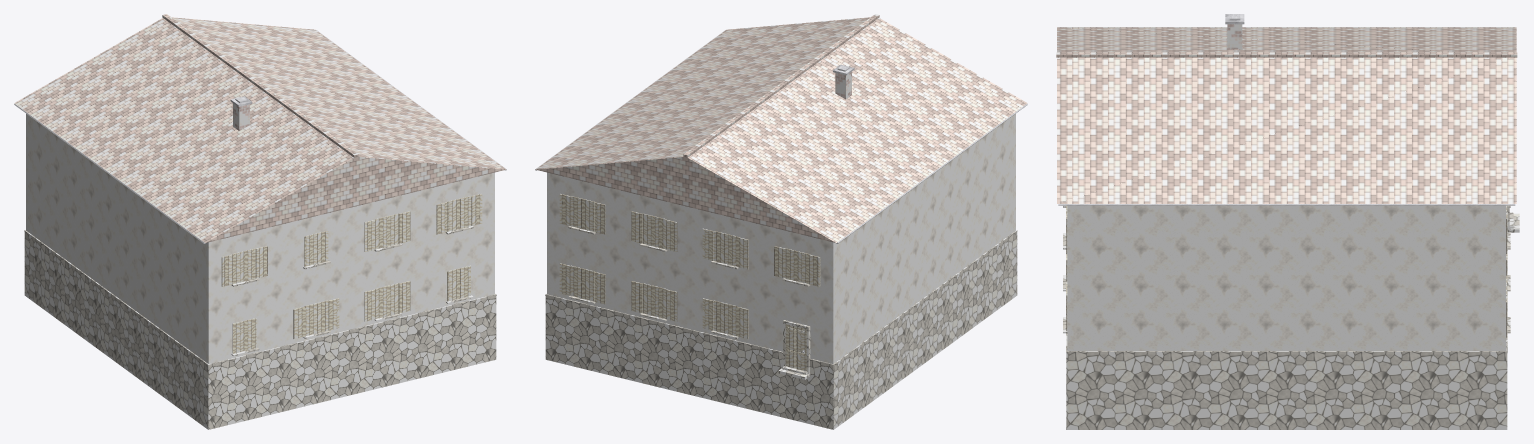
3 renders of one model, left to right at view 1: azimuth 30°, elevation 25°; view 2: azimuth 150°, elevation 25°; view 3: azimuth 270°, elevation 25°, orthographic. The views are drawn at different scales.
Parts seen in each view (by area): view 1: b1084716800; view 2: b1084716800; view 3: b1084716800.
Boxes of the visible parts, x1,y1,x2,y2 form: b1084716800: (14, 14, 506, 429); b1084716800: (535, 14, 1027, 429); b1084716800: (1056, 14, 1519, 429).
Bounding box in the file's own units: 14.1 × 11.3 × 15.54.
Materials: 18 (18 with a texture image).
